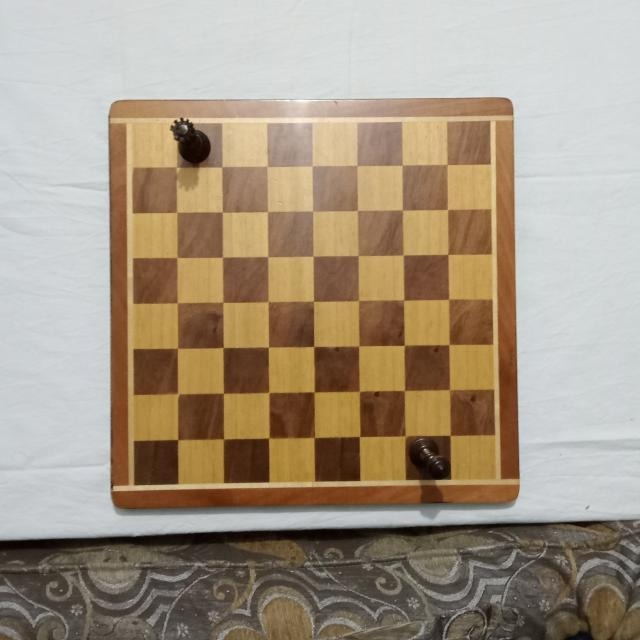black-king: (411, 435, 449, 480)
black-queen: (170, 115, 210, 164)
